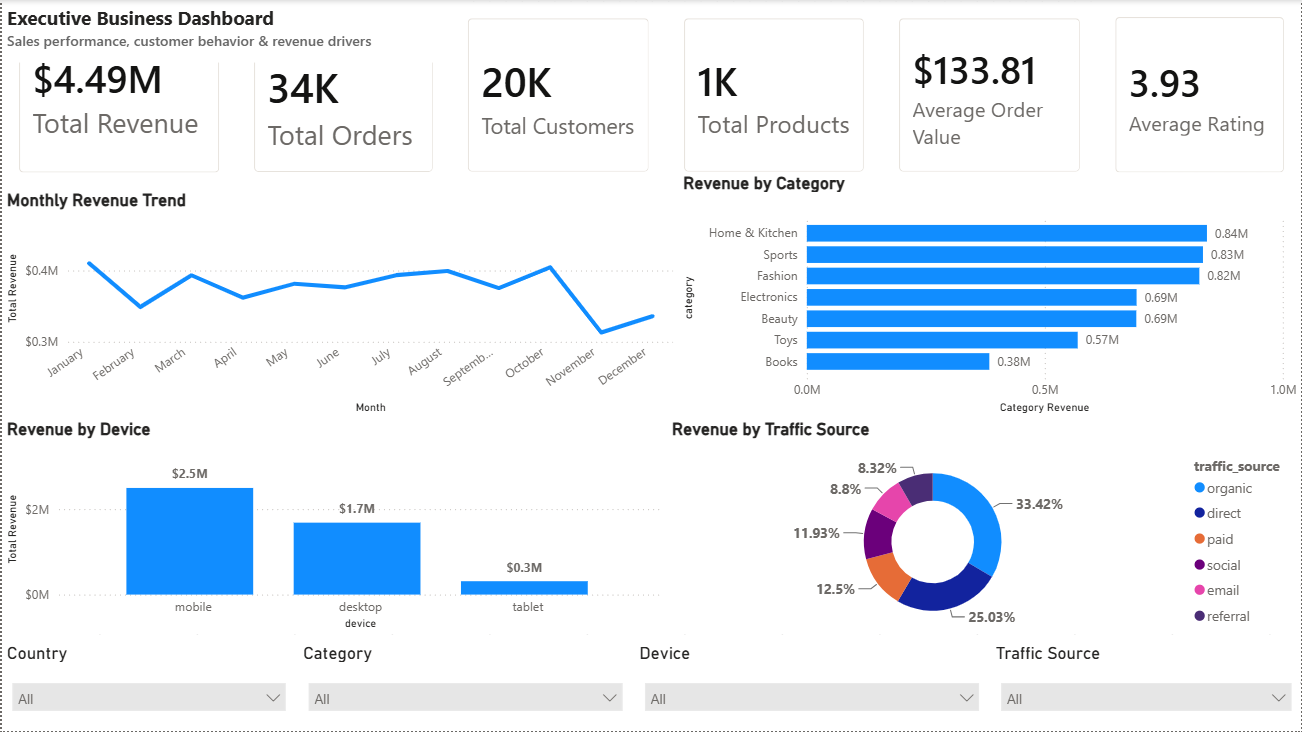

The page's visual inventory and layout, read from the dashboard file:
{"tool":"powerbi","page":{"name":"Executive Dashboard","canvas":[1280,720],"ordinal":0},"visuals":[{"type":"cardVisual","fields":{"Data":["retail_sales_analytics orders.Total Revenue"]},"box":[0,0,231.4,187.1],"z":0},{"type":"cardVisual","fields":{"Data":["retail_sales_analytics orders.Total Orders"]},"box":[231.4,18.5,210.5,168.6],"z":1000},{"type":"cardVisual","fields":{"Data":["retail_sales_analytics product.Total Products"]},"box":[654.8,1.2,211.7,185.8],"z":2000},{"type":"cardVisual","fields":{"Data":["retail_sales_analytics customer.Total Customers"]},"box":[441.8,1.2,212.9,185.8],"z":3000},{"type":"cardVisual","fields":{"Data":["retail_sales_analytics orders.Average Order Value"]},"box":[866.5,1.2,212.9,185.8],"z":4000},{"type":"cardVisual","fields":{"Data":["retail_sales_analytics reviews.Average Rating"]},"box":[1079.4,0,200.6,187.1],"z":5000},{"type":"lineChart","title":"Monthly Revenue Trend","fields":{"Category":["retail_sales_analytics orders.order_time.Variation.Date Hierarchy.Month"],"Y":["retail_sales_analytics orders.Total Revenue"]},"box":[0,187.1,665.8,225.2],"z":6000},{"type":"clusteredBarChart","title":"Revenue by Category","fields":{"Category":["retail_sales_analytics product.category"],"Y":["retail_sales_analytics customer.Category Revenue"]},"box":[665.6,170.2,614.4,241.9],"z":7000},{"type":"donutChart","title":"Revenue by Traffic Source","fields":{"Category":["retail_sales_analytics orders.traffic_source"],"Y":["retail_sales_analytics orders.Total Revenue"]},"box":[655.4,412.2,624.6,212.5],"z":8000},{"type":"clusteredColumnChart","title":"Revenue by Device","fields":{"Y":["retail_sales_analytics orders.Total Revenue"],"Category":["retail_sales_analytics orders.device"]},"box":[0,412.3,654.8,212.9],"z":9000},{"type":"slicer","title":"Country","fields":{"Values":["retail_sales_analytics orders.country"]},"box":[0,633,289.3,87],"z":10000},{"type":"slicer","title":"Category","fields":{"Values":["retail_sales_analytics product.category"]},"box":[291.4,633,329,87],"z":11000},{"type":"slicer","title":"Device","fields":{"Values":["retail_sales_analytics orders.device"]},"box":[622.5,633,349.4,87],"z":12000},{"type":"slicer","title":"Traffic Source","fields":{"Values":["retail_sales_analytics orders.traffic_source"]},"box":[974.1,633,305.9,87],"z":13000},{"type":"textbox","box":[0,0,454.2,61.5],"z":14000}]}

Visuals, with their boxes in screenshot pixels (x1, y1, x2, y2), scaled from the page's 1280x720 canvas onto the 1302x732 screenshot:
cardVisual - retail_sales_analytics orders.Total Revenue: {"x1": 0, "y1": 0, "x2": 235, "y2": 190}
cardVisual - retail_sales_analytics orders.Total Orders: {"x1": 235, "y1": 19, "x2": 449, "y2": 190}
cardVisual - retail_sales_analytics product.Total Products: {"x1": 666, "y1": 1, "x2": 881, "y2": 190}
cardVisual - retail_sales_analytics customer.Total Customers: {"x1": 449, "y1": 1, "x2": 666, "y2": 190}
cardVisual - retail_sales_analytics orders.Average Order Value: {"x1": 881, "y1": 1, "x2": 1098, "y2": 190}
cardVisual - retail_sales_analytics reviews.Average Rating: {"x1": 1098, "y1": 0, "x2": 1301, "y2": 190}
"Monthly Revenue Trend" lineChart: {"x1": 0, "y1": 190, "x2": 677, "y2": 419}
"Revenue by Category" clusteredBarChart: {"x1": 677, "y1": 173, "x2": 1301, "y2": 419}
"Revenue by Traffic Source" donutChart: {"x1": 667, "y1": 419, "x2": 1301, "y2": 635}
"Revenue by Device" clusteredColumnChart: {"x1": 0, "y1": 419, "x2": 666, "y2": 636}
"Country" slicer: {"x1": 0, "y1": 644, "x2": 294, "y2": 731}
"Category" slicer: {"x1": 296, "y1": 644, "x2": 631, "y2": 731}
"Device" slicer: {"x1": 633, "y1": 644, "x2": 989, "y2": 731}
"Traffic Source" slicer: {"x1": 991, "y1": 644, "x2": 1301, "y2": 731}
textbox: {"x1": 0, "y1": 0, "x2": 462, "y2": 63}
